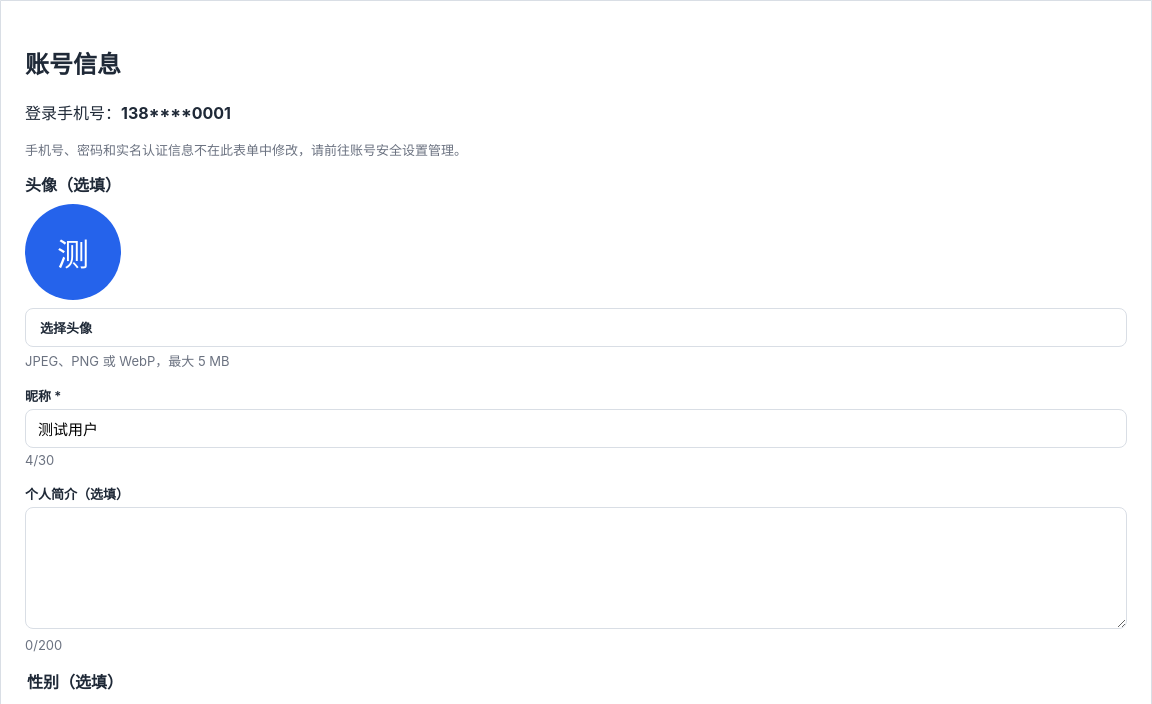
ProfileForm › loads, saves, and updates the authenticated user summary
Replace the text in the field labelled "昵称 *" with "新昵称🙂" at (576, 428), box [25,409,1127,448]
(page scrolled)
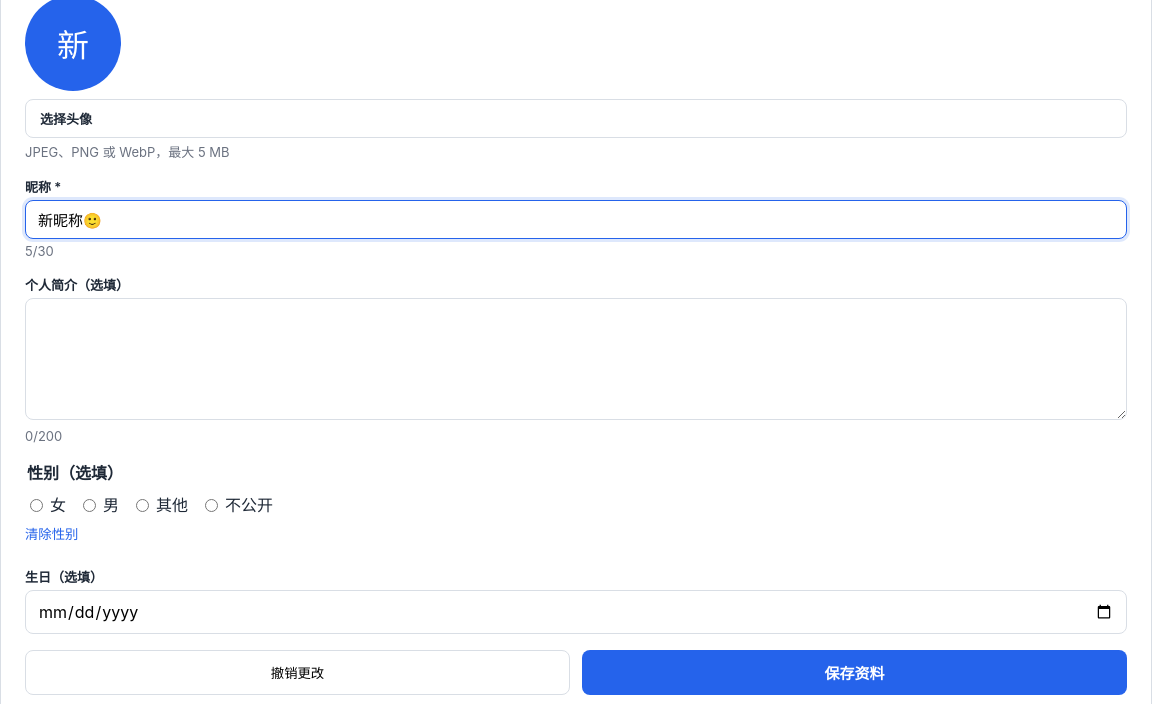
Click the button "保存资料".
click(854, 672)  # box [582,650,1127,695]
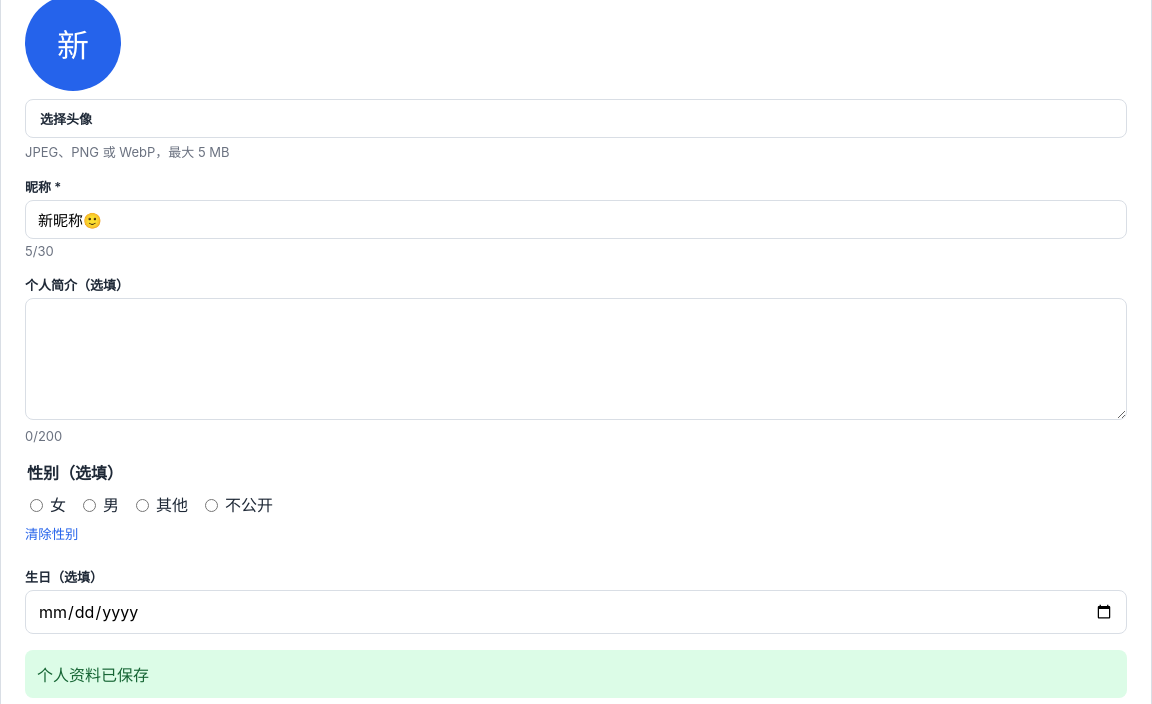
Check: the text "个人资料已保存" is shown, box [25,650,1127,698]
